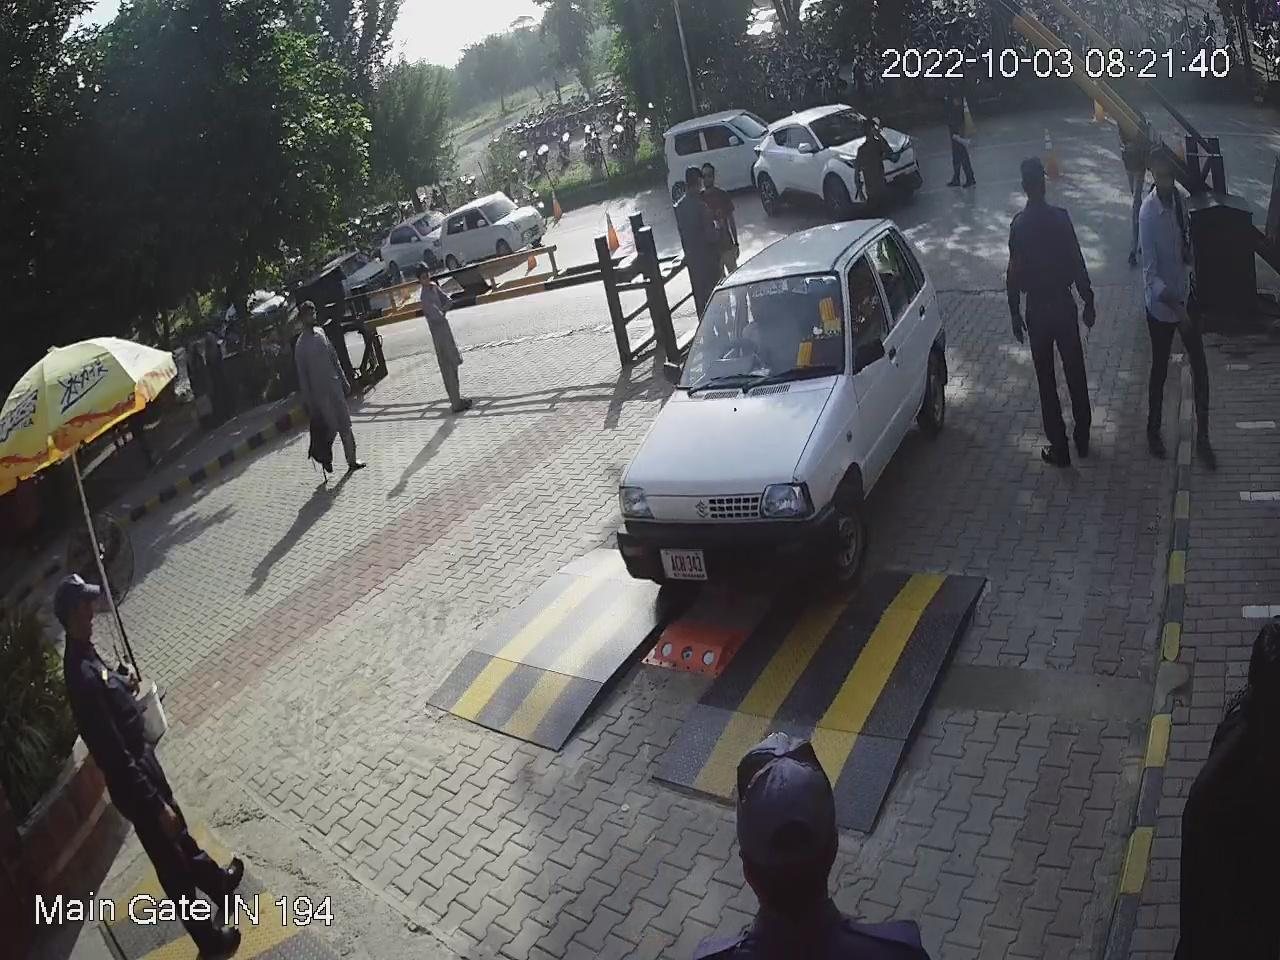windshield: (670, 260, 846, 395)
